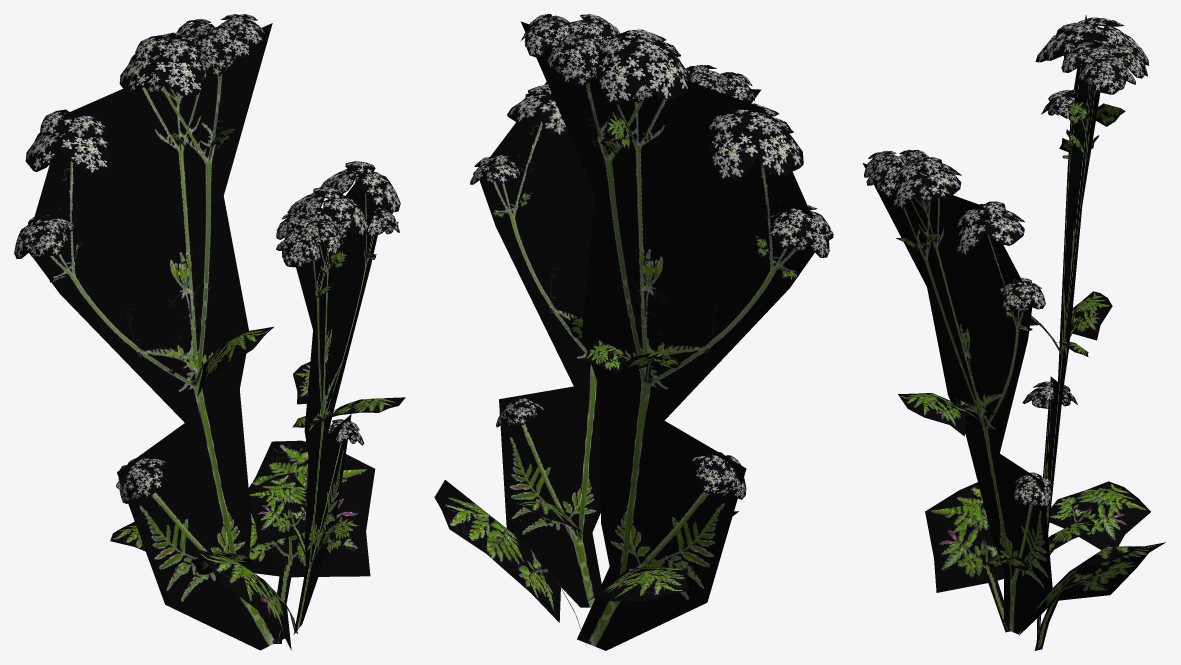
File: 02_Anthriscus_sylvestris_02_001.fbx
3 views of the same model, side by side, from view 1: azimuth 30°, elevation 25°; view 2: azimuth 150°, elevation 25°; view 3: azimuth 270°, elevation 25° (orthographic). The views are drawn at different scales.
Visible parts, largest first — view 1: 02_Anthriscus_sylvestris_02.001; view 2: 02_Anthriscus_sylvestris_02.001; view 3: 02_Anthriscus_sylvestris_02.001.
Boxes of the visible parts, <box> form: 02_Anthriscus_sylvestris_02.001: <box>14,14,405,650</box>; 02_Anthriscus_sylvestris_02.001: <box>434,14,833,650</box>; 02_Anthriscus_sylvestris_02.001: <box>862,15,1165,650</box>.
Bounding box in the file's own units: 0.3899 × 0.6361 × 0.2954.
